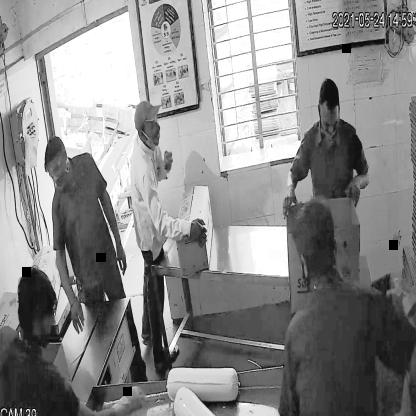goggles: (44, 156, 64, 182)
